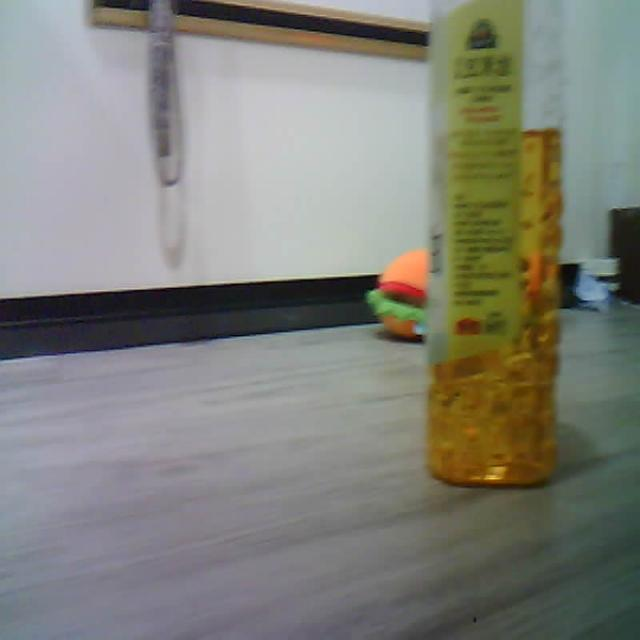bottle: (425, 0, 563, 484)
